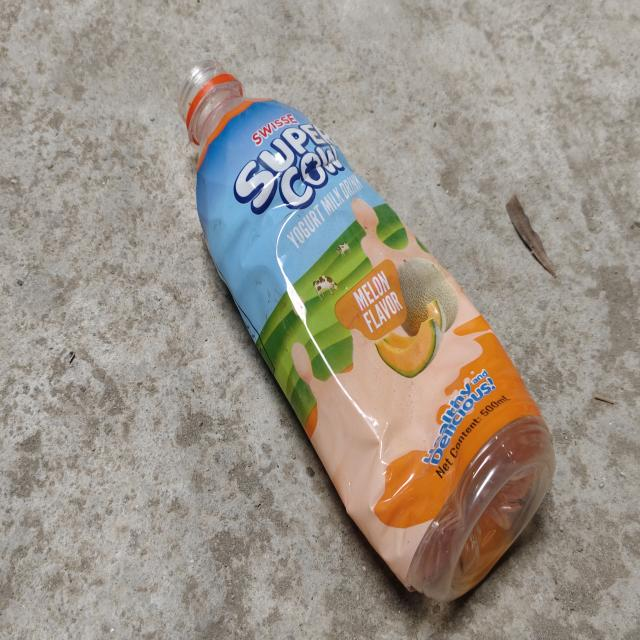Bottle: (181, 70, 556, 605)
